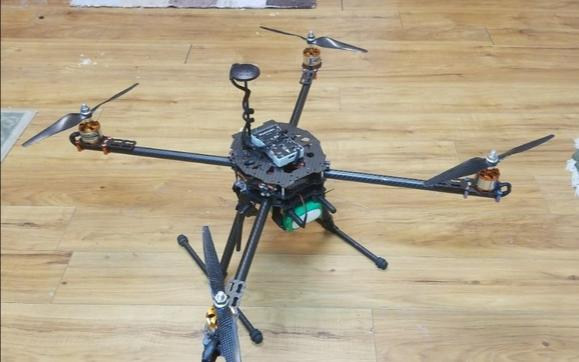drone: (9, 21, 551, 362)
